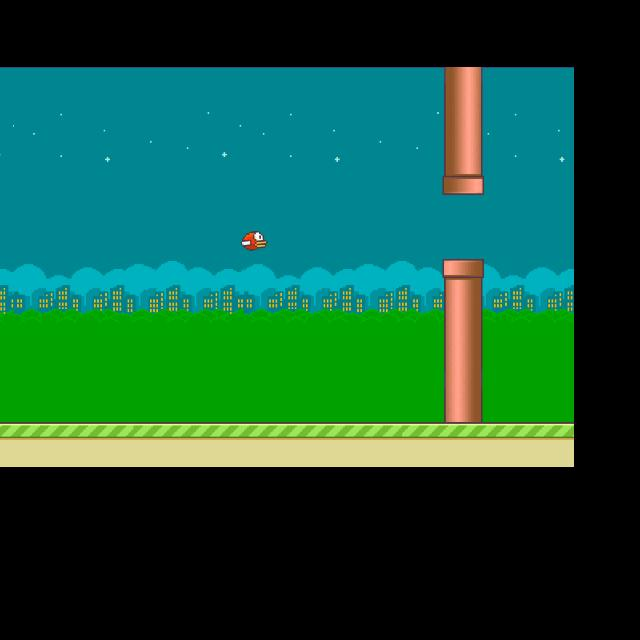bird: (240, 231, 268, 251)
pipedown: (442, 259, 483, 423)
pipeup: (442, 67, 483, 195)
